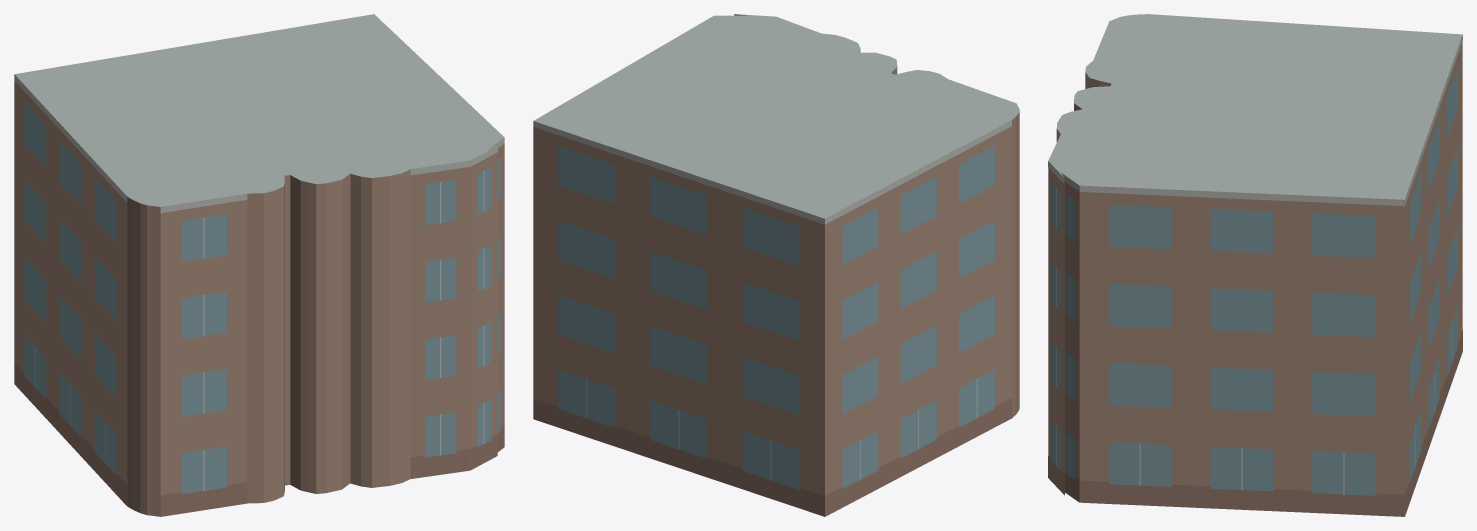
File: survey-upis-32883475.glb
The picture shows the model from 3 angles, left to right: view 1: azimuth 30°, elevation 25°; view 2: azimuth 150°, elevation 25°; view 3: azimuth 270°, elevation 25°; orthographic projection. The views are drawn at different scales.
Parts seen in each view (by area): view 1: survey-upis-32883475.tmp; view 2: survey-upis-32883475.tmp; view 3: survey-upis-32883475.tmp.
Boxes of the visible parts, left/top/right/bottom form: survey-upis-32883475.tmp: left=14, top=14, right=504, bottom=516; survey-upis-32883475.tmp: left=533, top=14, right=1019, bottom=516; survey-upis-32883475.tmp: left=1048, top=14, right=1462, bottom=516.
Size of the model in its own units: 15.35 by 12.2 by 14.47.
